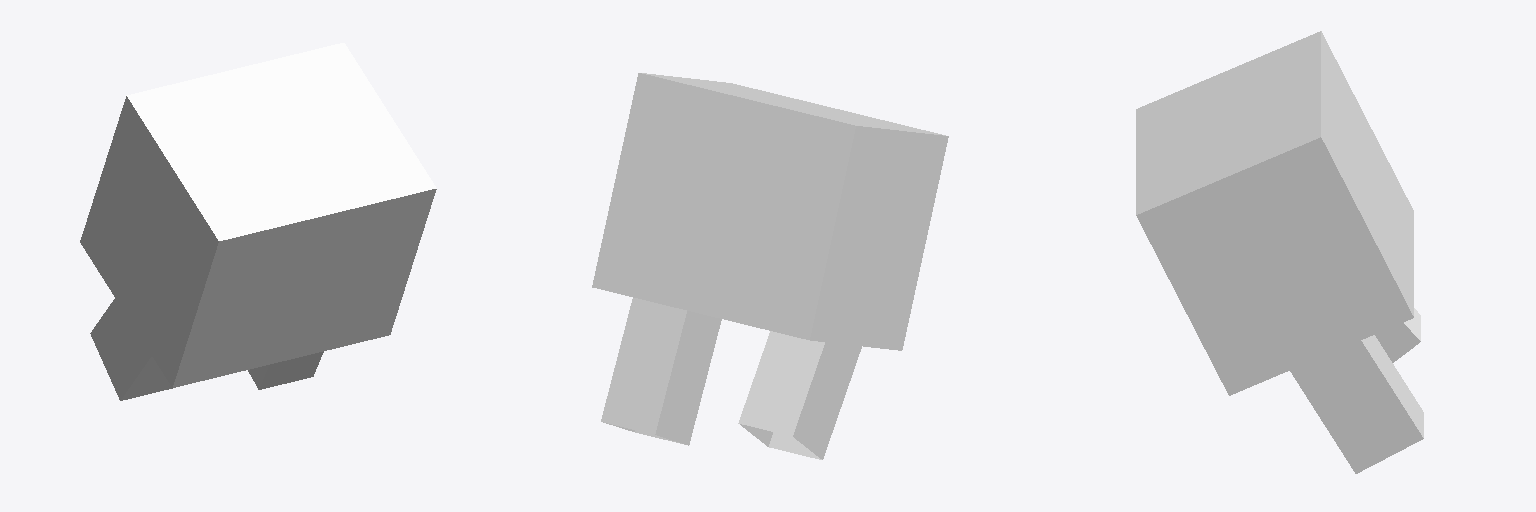
File: mt_horse2_mf.obj
The picture shows the model from 3 angles: view 1: azimuth 30°, elevation 25°; view 2: azimuth 150°, elevation 25°; view 3: azimuth 270°, elevation 25°; orthographic projection.
Visible parts, largest first — view 1: cube, cube.000, cube.001; view 2: cube, cube.001, cube.000; view 3: cube, cube.001, cube.000.
Boxes of the visible parts, <box> form: cube: <box>80,43,436,387</box>; cube.000: <box>90,298,172,400</box>; cube.001: <box>248,351,323,389</box>; cube: <box>592,73,948,350</box>; cube.001: <box>601,298,721,445</box>; cube.000: <box>738,331,861,459</box>; cube: <box>1136,31,1413,395</box>; cube.001: <box>1290,335,1423,473</box>; cube.000: <box>1375,308,1420,362</box>.
Bounding box in the file's own units: 0.968 × 1.46 × 1.11.